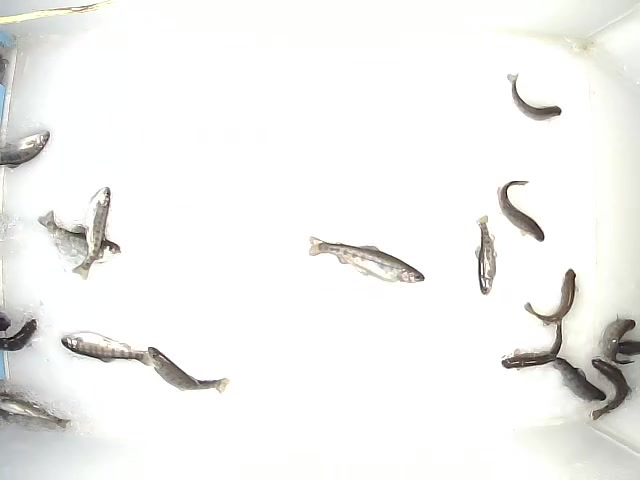fish: (305, 232, 428, 285), (37, 207, 125, 259), (69, 182, 112, 281), (499, 311, 571, 370), (147, 344, 231, 392), (59, 330, 152, 370), (522, 264, 578, 328), (495, 178, 546, 243), (542, 354, 608, 404), (588, 357, 633, 425), (505, 73, 563, 121), (599, 311, 637, 374), (473, 211, 500, 296)
